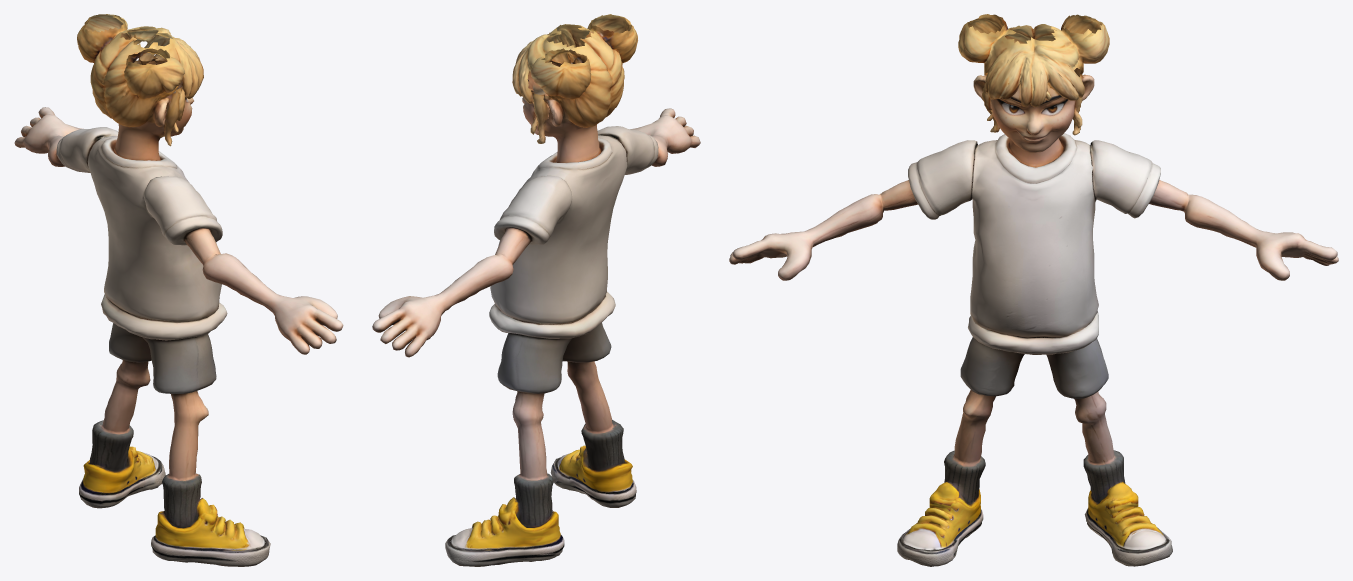
3 views of the same model, side by side, from view 1: azimuth 30°, elevation 25°; view 2: azimuth 150°, elevation 25°; view 3: azimuth 270°, elevation 25° (orthographic).
Visible parts, largest first — view 1: tripo_node_6a3ba7da; view 2: tripo_node_6a3ba7da; view 3: tripo_node_6a3ba7da.
Boxes of the visible parts, x1,y1,x2,y2 form: tripo_node_6a3ba7da: (14,14,343,566); tripo_node_6a3ba7da: (372,14,700,566); tripo_node_6a3ba7da: (729,14,1338,566).
Size of the model in its own units: 21.72 by 91.39 by 100.
Materials: 1 (1 with a texture image).
